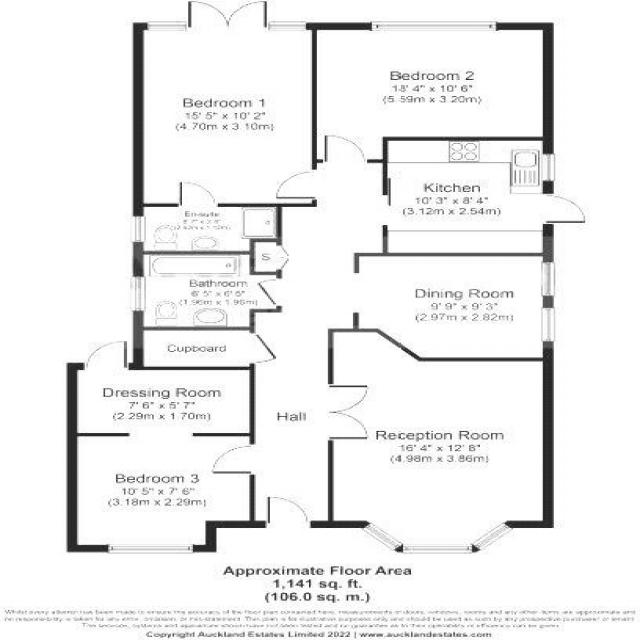DOOR: (261, 491, 316, 529), (205, 441, 256, 477), (542, 192, 592, 225), (83, 337, 130, 371), (320, 132, 368, 163), (272, 168, 317, 200), (175, 179, 220, 207), (253, 276, 283, 308)
ROOM: (328, 329, 553, 555), (67, 334, 255, 553), (133, 0, 318, 207), (312, 21, 554, 163), (382, 136, 597, 257), (353, 252, 554, 362)
WINDOW: (369, 17, 502, 33), (359, 521, 405, 553), (102, 541, 198, 556), (471, 521, 514, 553), (401, 542, 474, 555), (127, 274, 149, 314), (539, 305, 559, 344), (539, 260, 558, 298), (540, 150, 559, 184), (146, 20, 188, 33), (130, 215, 149, 243), (268, 20, 309, 32)
